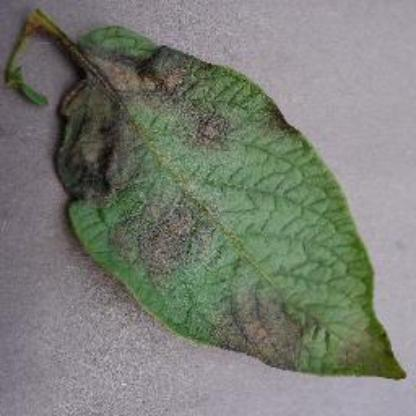Late-Blight: (44, 21, 394, 406), (366, 358, 372, 368)
